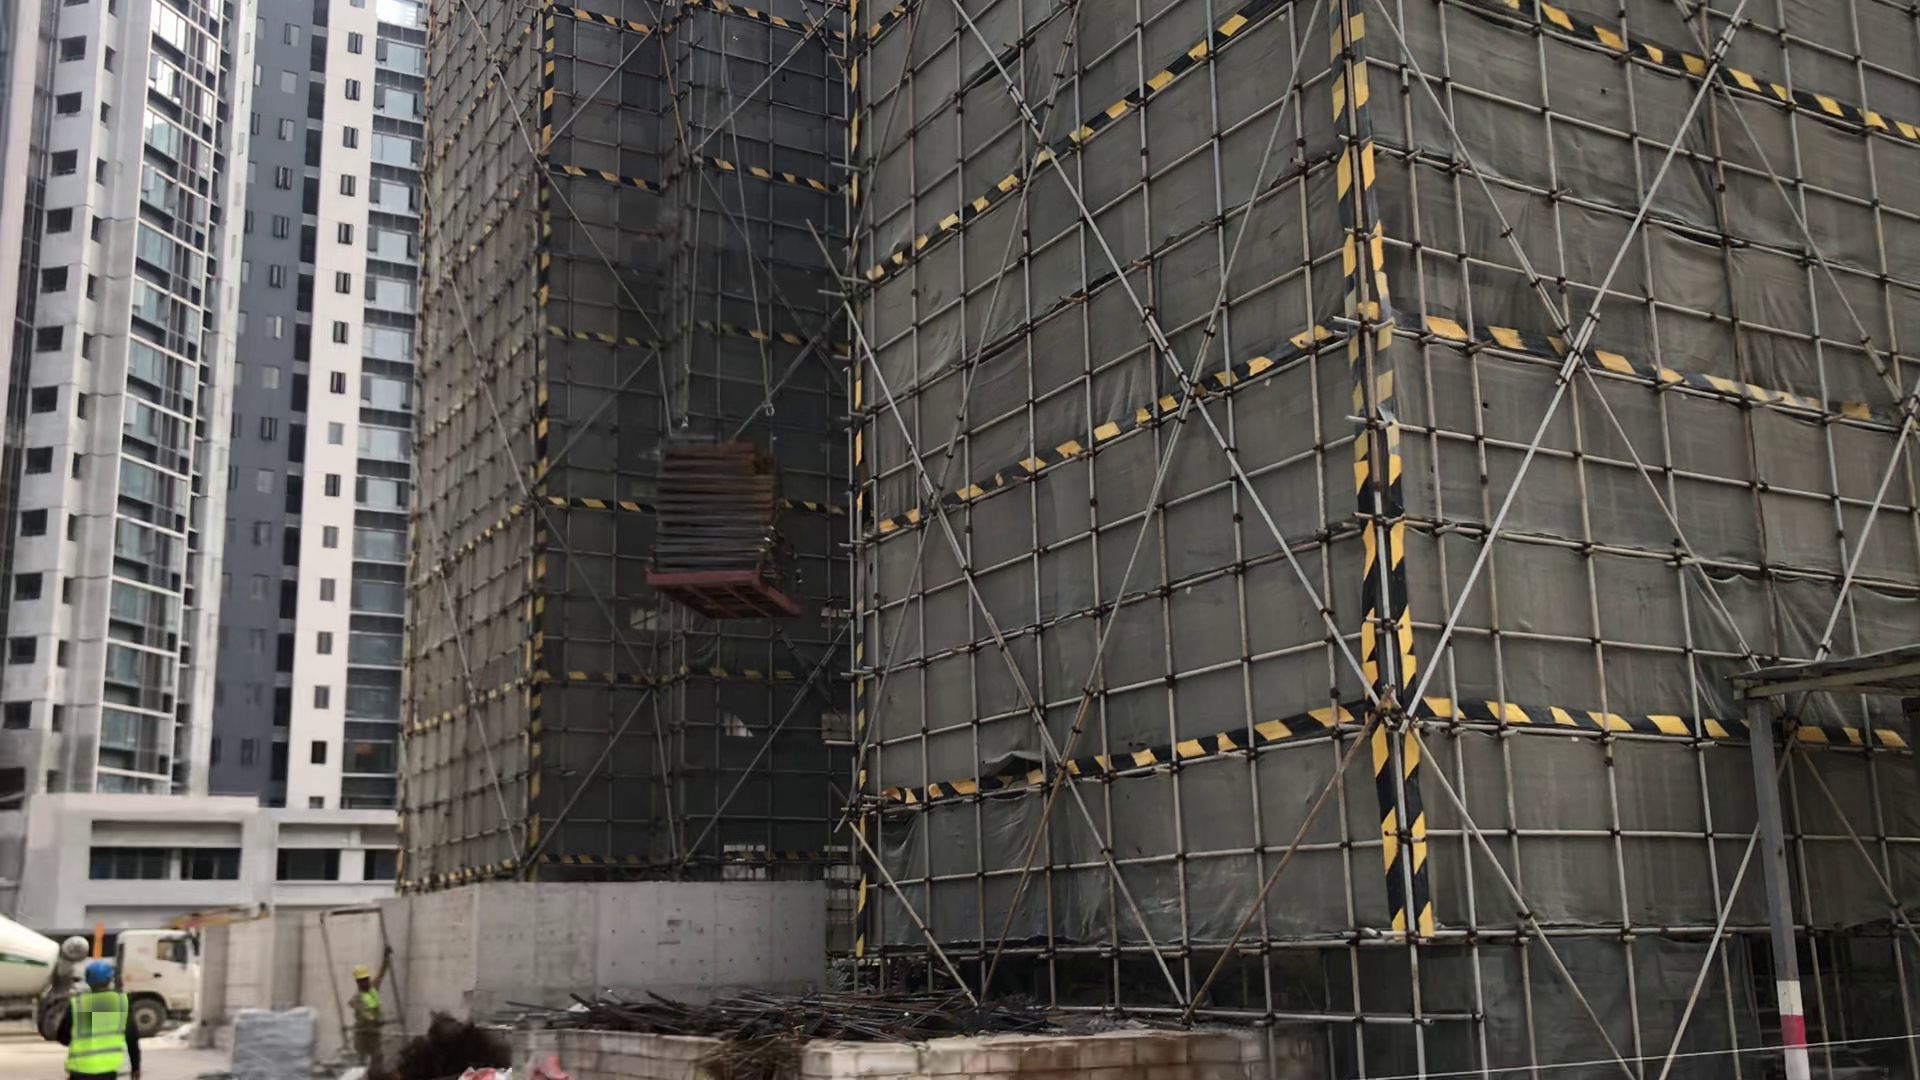helmet: (347, 957, 379, 986), (84, 961, 113, 989)
person: (62, 962, 138, 1080), (346, 955, 404, 1065)
vest: (74, 991, 131, 1079), (353, 984, 381, 1055)
